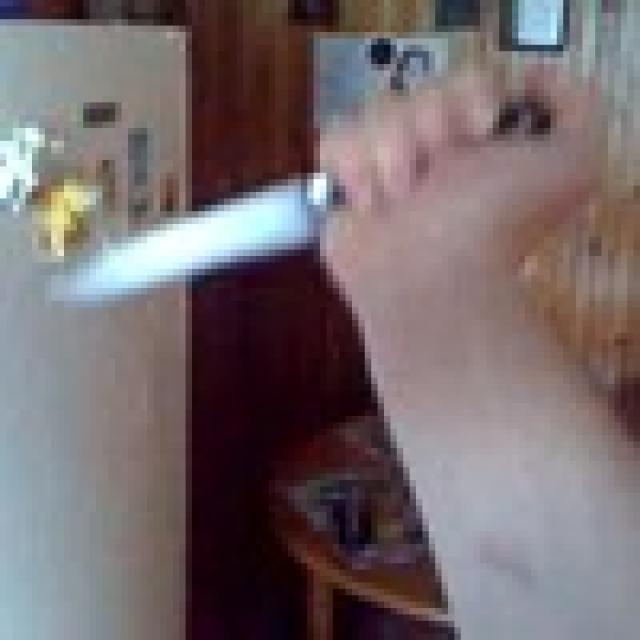Knife_Handle: (45, 64, 595, 307)
